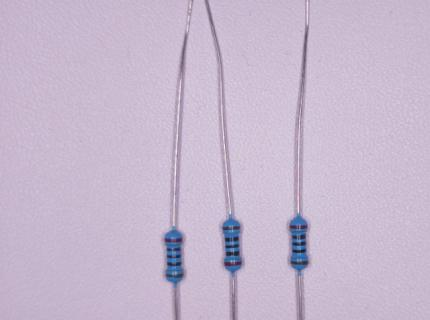Black band: (225, 244, 240, 249), (225, 237, 239, 242), (226, 251, 240, 256), (292, 235, 306, 240), (292, 249, 306, 254), (167, 254, 181, 259), (167, 262, 182, 266), (292, 242, 306, 246), (167, 248, 181, 251)
Brown band: (165, 273, 184, 278), (222, 226, 241, 230), (291, 261, 308, 265)
Red band: (165, 238, 183, 243), (289, 225, 308, 229), (224, 262, 242, 266)
